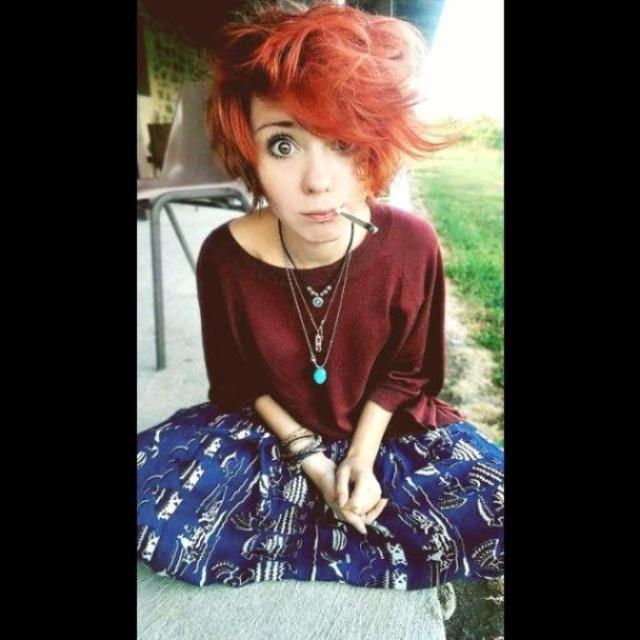rokok: (307, 206, 381, 240)
